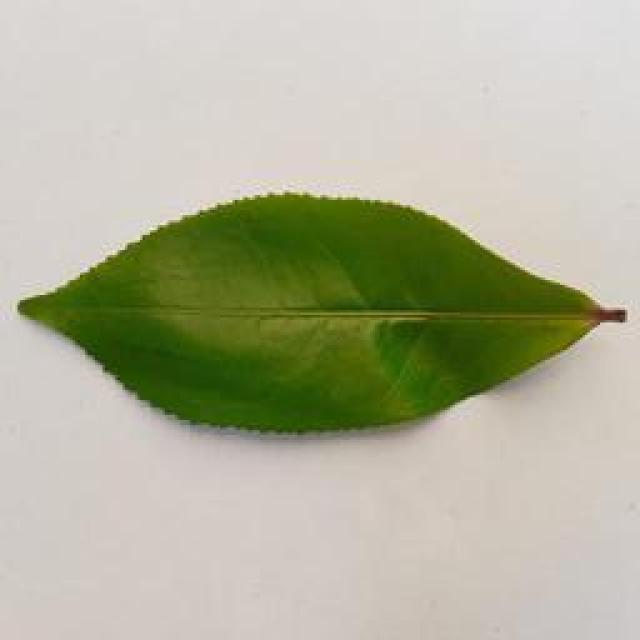Healthy: (22, 185, 629, 442)
